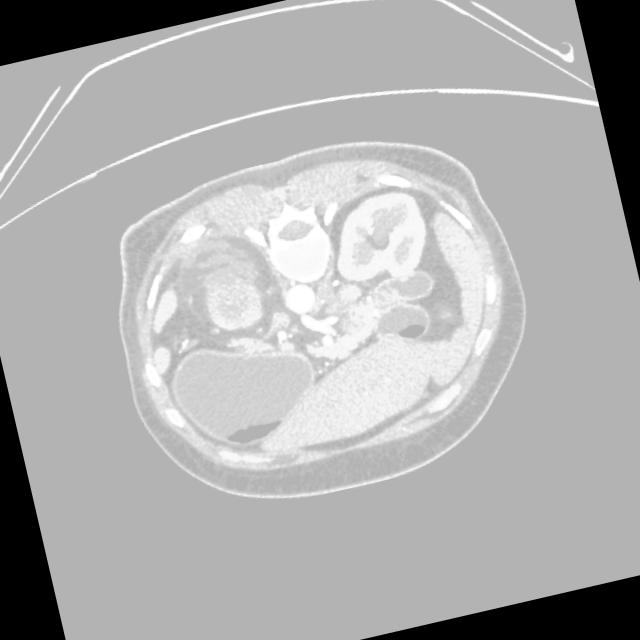TUMOR: (91, 194, 578, 488)
